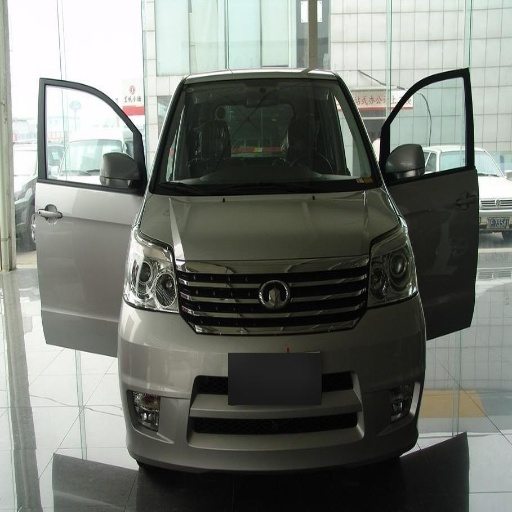front_bumper: (122, 259, 419, 467)
front_left_light: (371, 242, 417, 305)
front_right_door: (64, 82, 137, 189)
front_right_light: (124, 230, 177, 311)
hood: (139, 188, 400, 278)
left_mirror: (384, 143, 423, 182)
